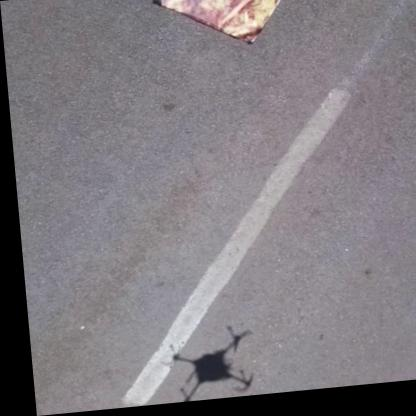fire-poster: (150, 0, 293, 56)
